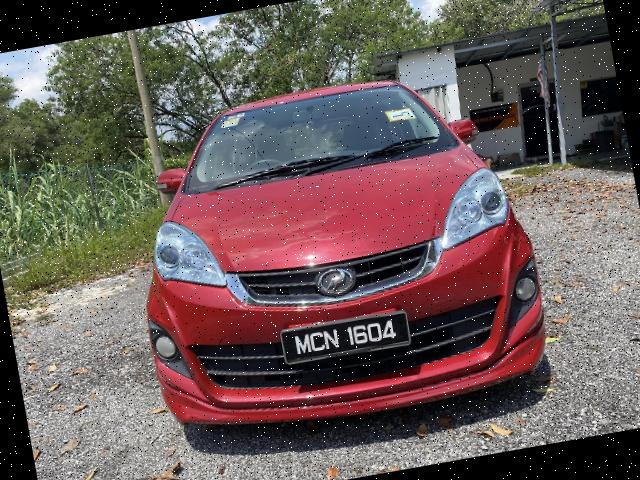License_Plate: (280, 309, 412, 368)
